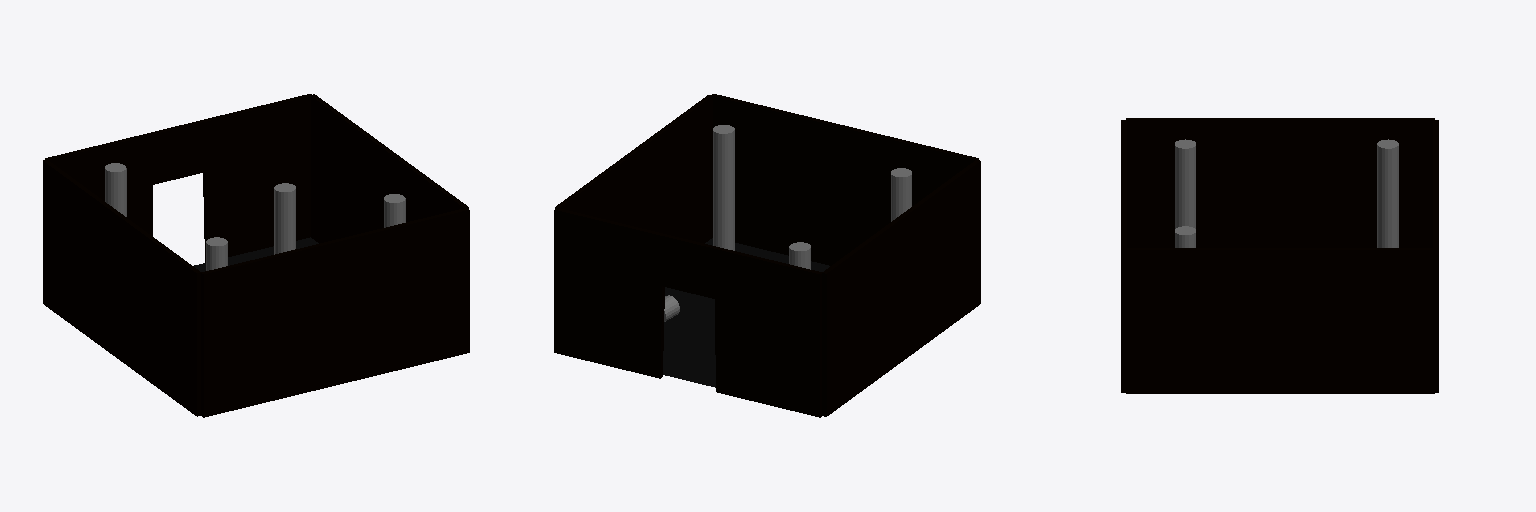
The model's file is MICAHEL1111.obj.
3 views of the same model, side by side, from view 1: azimuth 30°, elevation 25°; view 2: azimuth 150°, elevation 25°; view 3: azimuth 270°, elevation 25° (orthographic).
Parts seen in each view (by area): view 1: pCube2, pCube4, pCube1, pCube3, pCylinder5, pCylinder3, pCylinder1, pCylinder2, pPlane1; view 2: pCube1, pCube2, pCube4, pCube3, pPlane1, pCylinder1, pCylinder2; view 3: pCube3, pCube4, pCylinder3, pCylinder2, pCube2, pCube1.
Boxes of the visible parts, x1=… form: pCube2: x1=201, y1=208, x2=469, y2=417; pCube4: x1=43, y1=159, x2=200, y2=416; pCube1: x1=45, y1=94, x2=311, y2=262; pCube3: x1=310, y1=94, x2=468, y2=243; pCylinder5: x1=274, y1=183, x2=295, y2=254; pCylinder3: x1=105, y1=163, x2=126, y2=216; pCylinder1: x1=384, y1=194, x2=405, y2=227; pCylinder2: x1=206, y1=237, x2=227, y2=270; pPlane1: x1=194, y1=237, x2=318, y2=271; pCube1: x1=554, y1=208, x2=821, y2=417; pCube2: x1=712, y1=94, x2=978, y2=265; pCube4: x1=822, y1=160, x2=980, y2=416; pCube3: x1=555, y1=95, x2=712, y2=243; pPlane1: x1=663, y1=238, x2=829, y2=387; pCylinder1: x1=713, y1=125, x2=734, y2=250; pCylinder2: x1=891, y1=168, x2=911, y2=221; pCube3: x1=1126, y1=248, x2=1434, y2=393; pCube4: x1=1126, y1=118, x2=1434, y2=247; pCylinder3: x1=1377, y1=139, x2=1398, y2=247; pCylinder2: x1=1175, y1=139, x2=1195, y2=228; pCube2: x1=1121, y1=120, x2=1126, y2=392; pCube1: x1=1433, y1=120, x2=1438, y2=392.
Bounding box in the file's own units: 9.64 × 4.88 × 9.74.